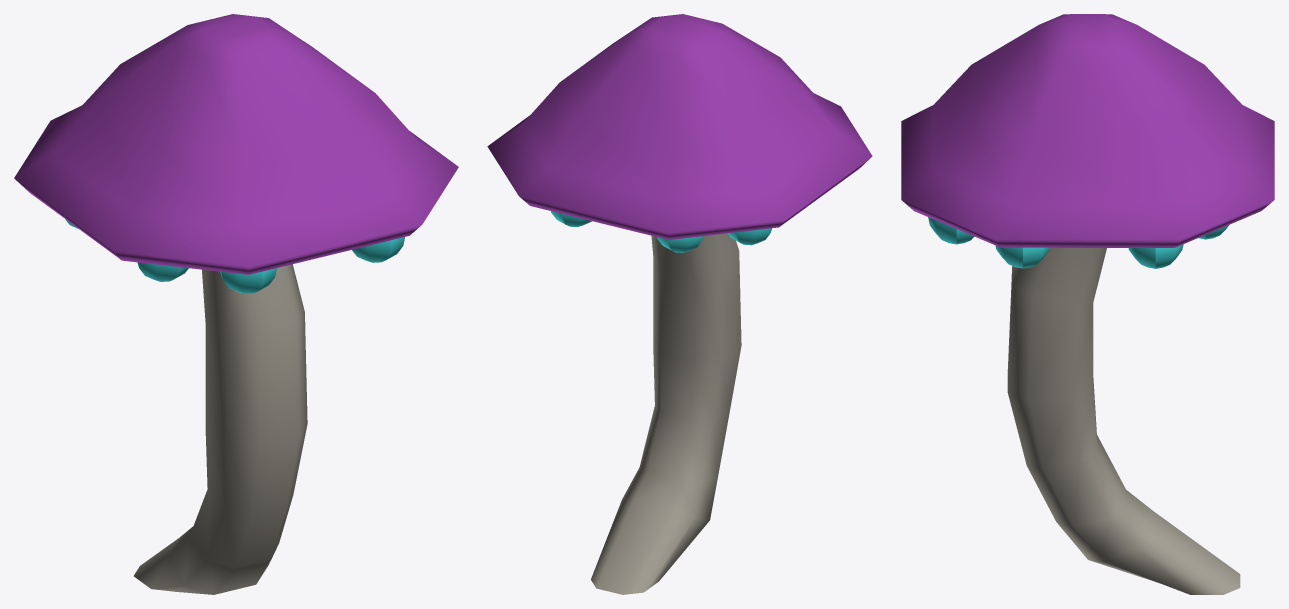
File: Mushroom_04.fbx
3 views of the same model, side by side, from view 1: azimuth 30°, elevation 25°; view 2: azimuth 150°, elevation 25°; view 3: azimuth 270°, elevation 25° (orthographic). The views are drawn at different scales.
Visible parts, largest first — view 1: champi_05_g; view 2: champi_05_g; view 3: champi_05_g.
Part boxes in pixels (box(x1,y1,x2,y2)): champi_05_g: box(14, 14, 458, 594); champi_05_g: box(487, 14, 872, 594); champi_05_g: box(901, 14, 1274, 594).
Size of the model in its own units: 0.2819 by 0.4628 by 0.2819.
